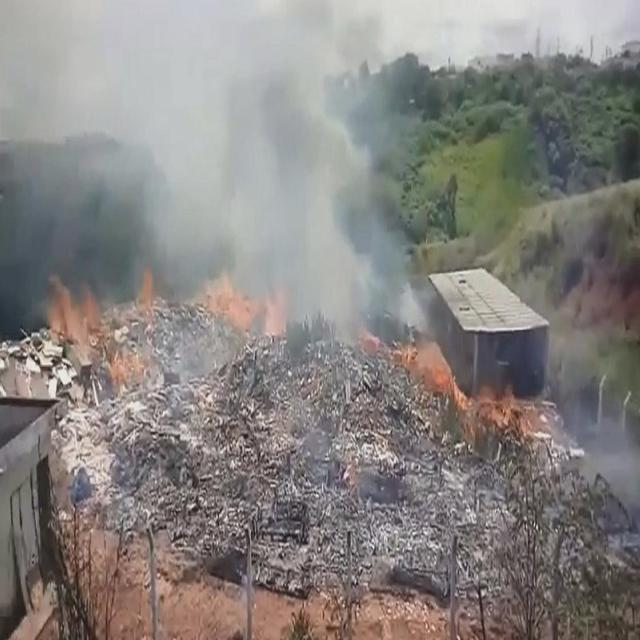Fire: (398, 340, 516, 432), (208, 272, 284, 338), (46, 270, 100, 336), (108, 344, 149, 386), (128, 269, 156, 309)
Smoke: (1, 5, 390, 272), (553, 318, 640, 518), (290, 278, 438, 338)
